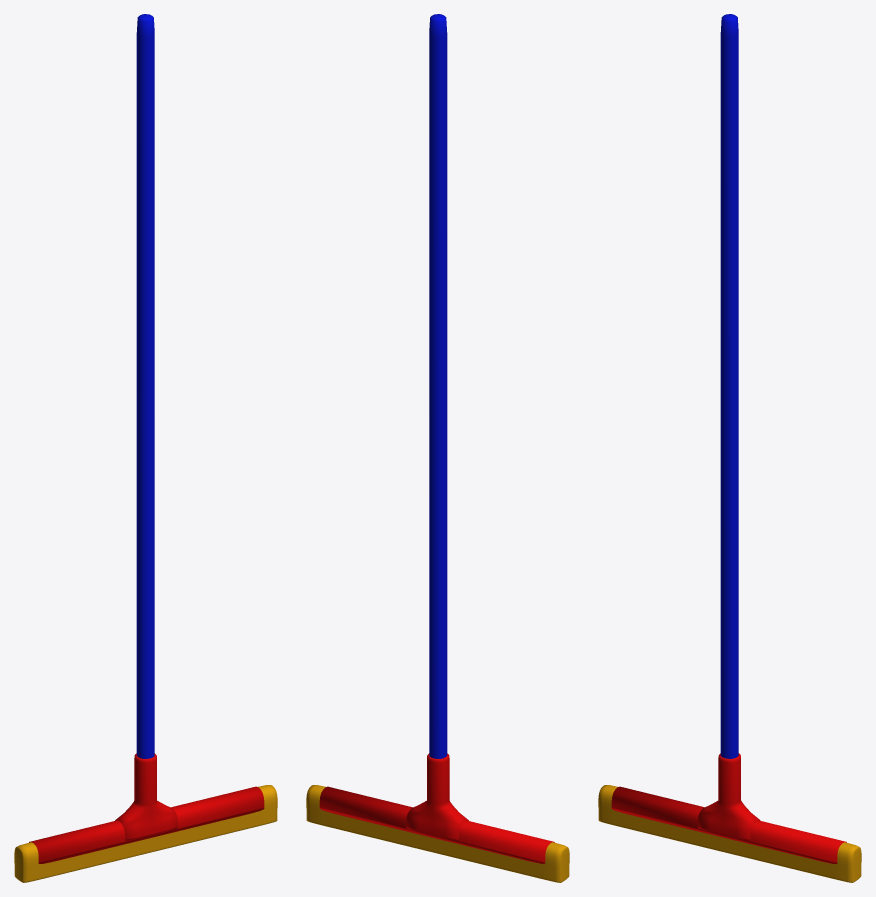
Rendered from uploads_files_821236_aftrekker.fbx.
The picture shows the model from 3 angles, left to right: view 1: azimuth 30°, elevation 25°; view 2: azimuth 150°, elevation 25°; view 3: azimuth 330°, elevation 25°; orthographic projection.
Parts seen in each view (by area): view 1: Cube.004; view 2: Cube.004; view 3: Cube.004.
Part boxes in pixels (x1,y1,x2,y2): Cube.004: (14, 14, 277, 882); Cube.004: (306, 14, 569, 882); Cube.004: (598, 14, 861, 882).
Size of the model in its own units: 54.68 by 171 by 4.45.
